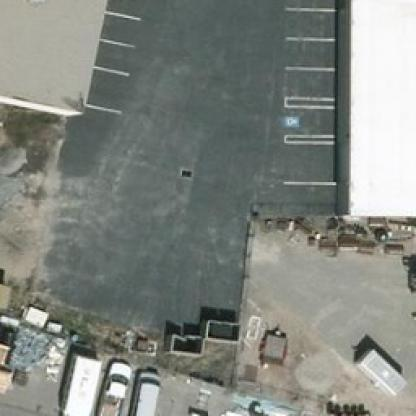car: (92, 359, 128, 413)
